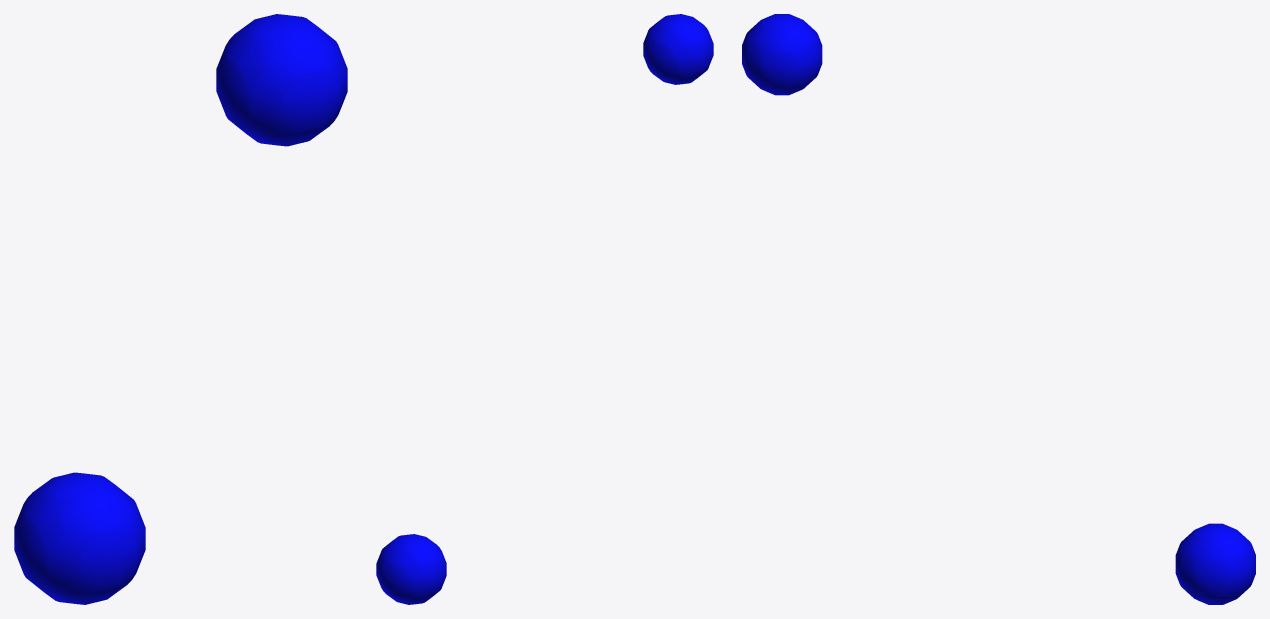
The model's file is visualizer.fbx.
3 renders of one model, left to right at view 1: azimuth 30°, elevation 25°; view 2: azimuth 150°, elevation 25°; view 3: azimuth 270°, elevation 25°, orthographic. The views are drawn at different scales.
Parts seen in each view (by area): view 1: Joint_A, Joint_B; view 2: Joint_A, Joint_B; view 3: Joint_A, Joint_B.
Part boxes in pixels (bbox=[...]): Joint_A: bbox=[14, 472, 145, 604]; Joint_B: bbox=[216, 14, 347, 146]; Joint_A: bbox=[376, 534, 446, 604]; Joint_B: bbox=[643, 14, 713, 84]; Joint_A: bbox=[1175, 523, 1255, 604]; Joint_B: bbox=[742, 14, 822, 95].
Size of the model in its own units: 177 by 566 by 490.
